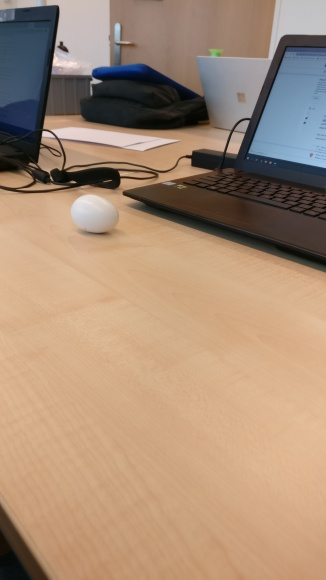egg: (70, 194, 119, 234)
